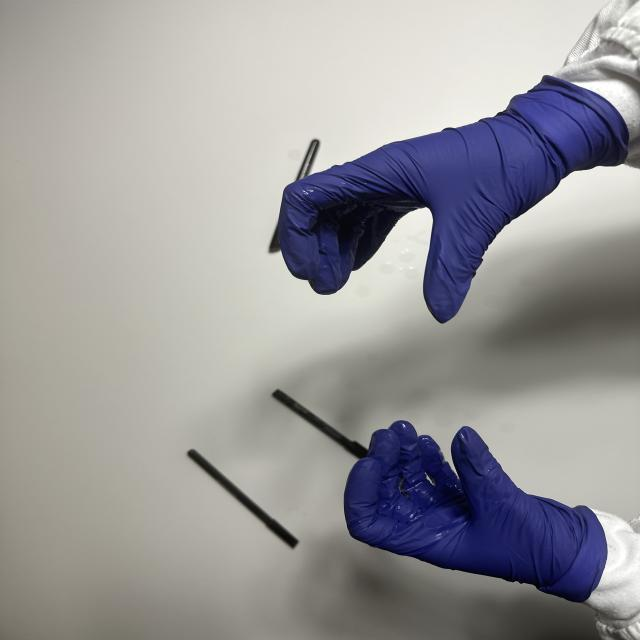gloves_contaminated: (279, 77, 627, 323), (344, 421, 606, 602)
